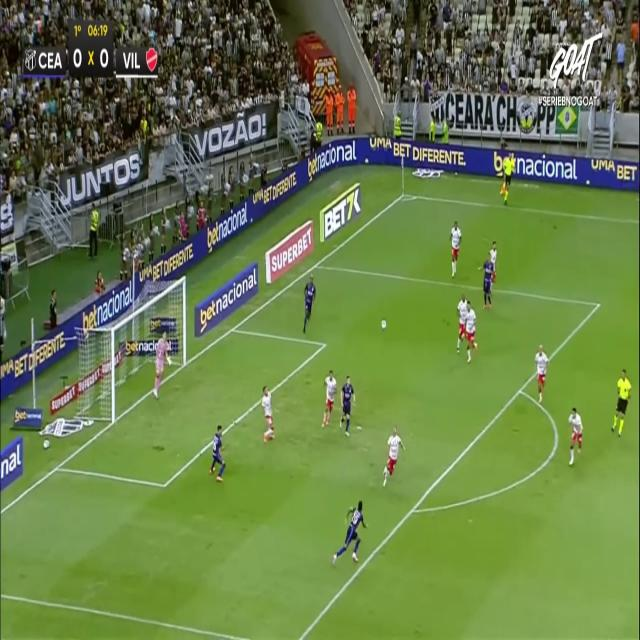ball: (43, 439, 49, 448), (381, 319, 386, 329)
goalkeeper: (152, 331, 172, 398)
player: (332, 500, 368, 566), (382, 425, 405, 487), (339, 375, 355, 437), (209, 424, 226, 481), (567, 406, 583, 465), (321, 369, 337, 427), (464, 299, 478, 363), (482, 251, 497, 310), (534, 343, 548, 403), (261, 385, 275, 443), (303, 274, 316, 333), (450, 220, 462, 278), (490, 234, 501, 285)
referee: (611, 368, 632, 436), (499, 150, 519, 211)
